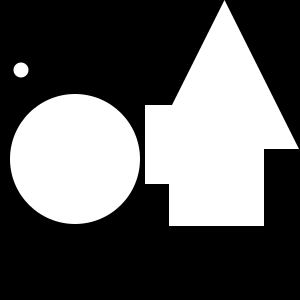circle: (169, 131, 264, 226), (145, 105, 224, 184)
rectangle: (10, 94, 140, 224), (14, 62, 28, 78)
triangle: (150, 0, 299, 149)
